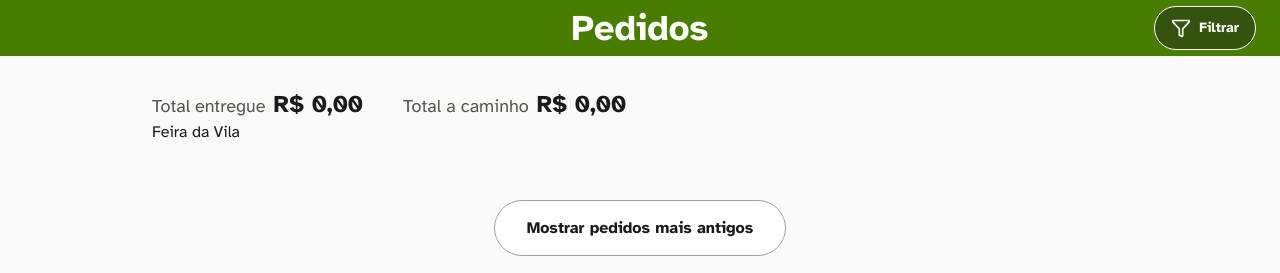
Test: HistoryLayout › leaves the orders on screen alone while the older ones load
This screenshot has width=1280, height=273.
Click the button "Mostrar pedidos mais antigos" at (640, 228), box [494,200,786,256]
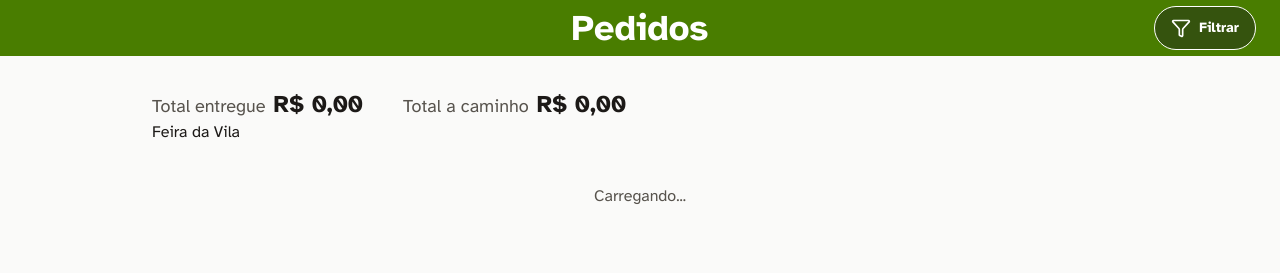
Expected: the text "Carregando..." is shown, [594,184,686,208]
